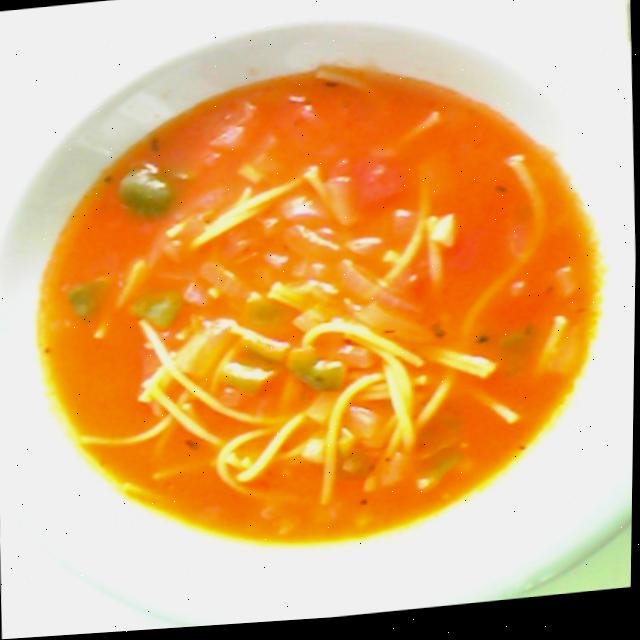汤锅炖物: (0, 0, 638, 634)
